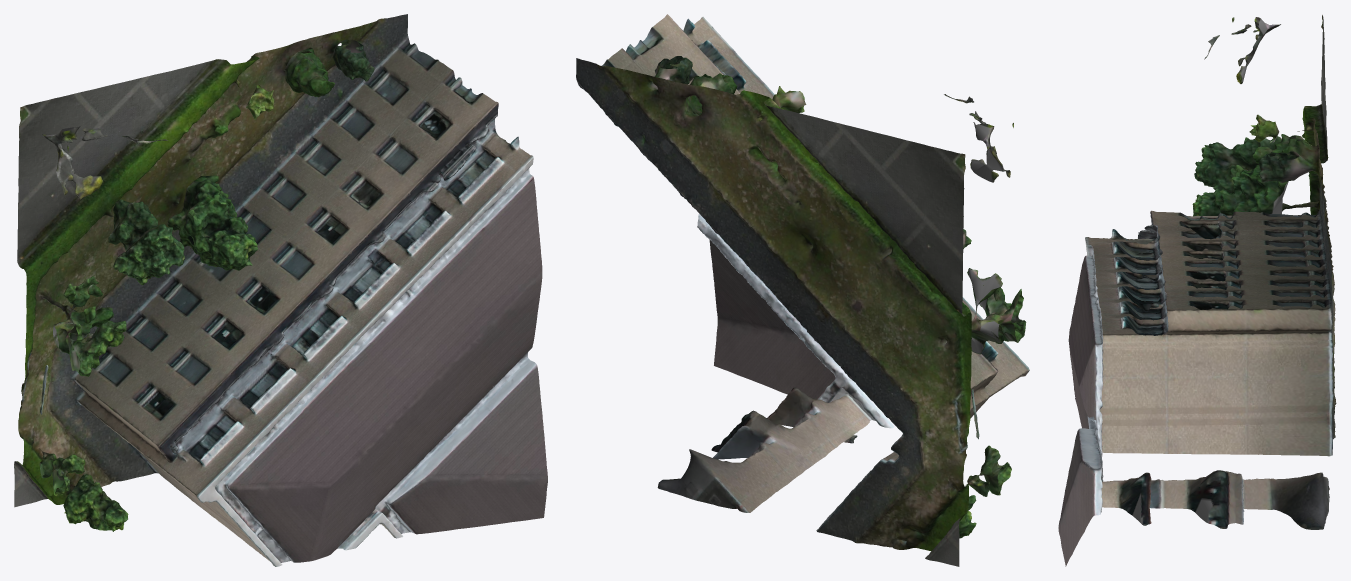
The model's file is Tile_+010_+018.fbx.
3 views of the same model, side by side, from view 1: azimuth 30°, elevation 25°; view 2: azimuth 150°, elevation 25°; view 3: azimuth 270°, elevation 25° (orthographic). The views are drawn at different scales.
Visible parts, largest first — view 1: DefaultName; view 2: DefaultName; view 3: DefaultName.
Boxes of the visible parts, box(x1,y1,x2,y2) form: DefaultName: box(14, 14, 547, 566); DefaultName: box(576, 14, 1029, 566); DefaultName: box(1058, 15, 1336, 566).
Size of the model in its own units: 22.54 by 22.54 by 15.06.
